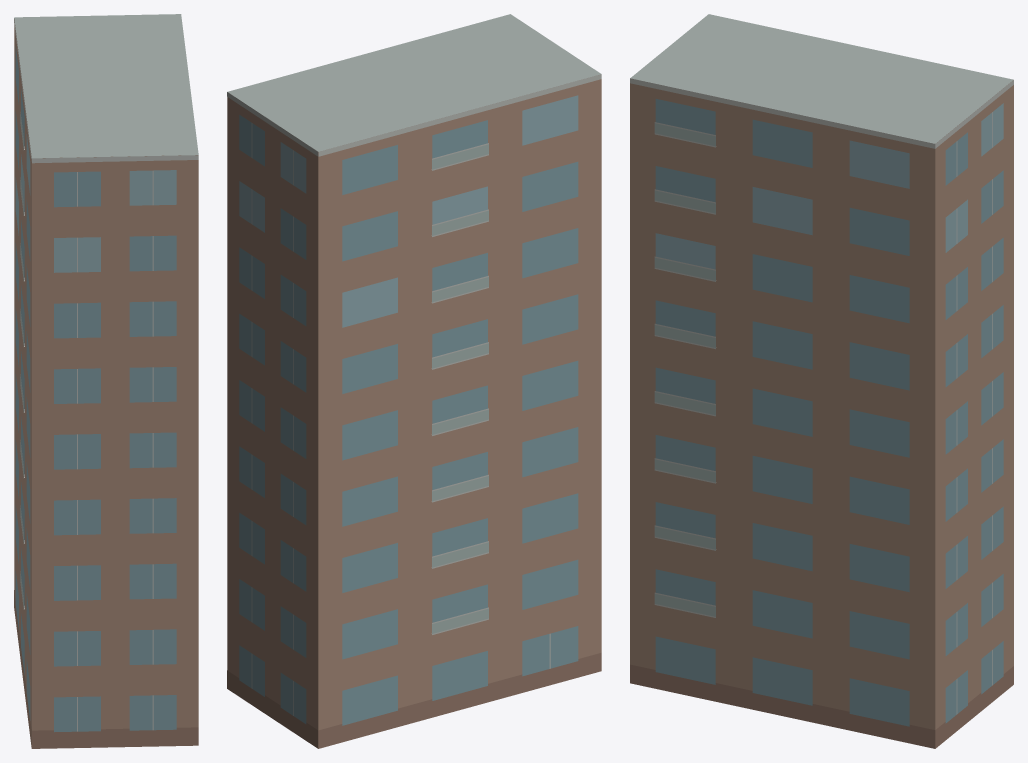
The model's file is survey-upis-32829132.glb.
The picture shows the model from 3 angles, left to right: view 1: azimuth 30°, elevation 25°; view 2: azimuth 150°, elevation 25°; view 3: azimuth 270°, elevation 25°; orthographic projection. The views are drawn at different scales.
Visible parts, largest first — view 1: survey-upis-32829132.tmp; view 2: survey-upis-32829132.tmp; view 3: survey-upis-32829132.tmp.
Boxes of the visible parts, x1=… form: survey-upis-32829132.tmp: x1=14, y1=14, x2=198, y2=748; survey-upis-32829132.tmp: x1=227, y1=14, x2=601, y2=748; survey-upis-32829132.tmp: x1=630, y1=14, x2=1013, y2=748.
Size of the model in its own units: 13.64 by 29.6 by 17.03.
